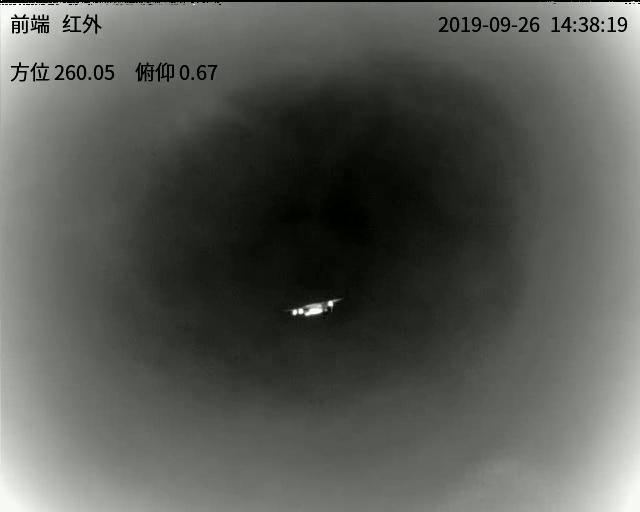DRONE: (286, 297, 338, 318)
